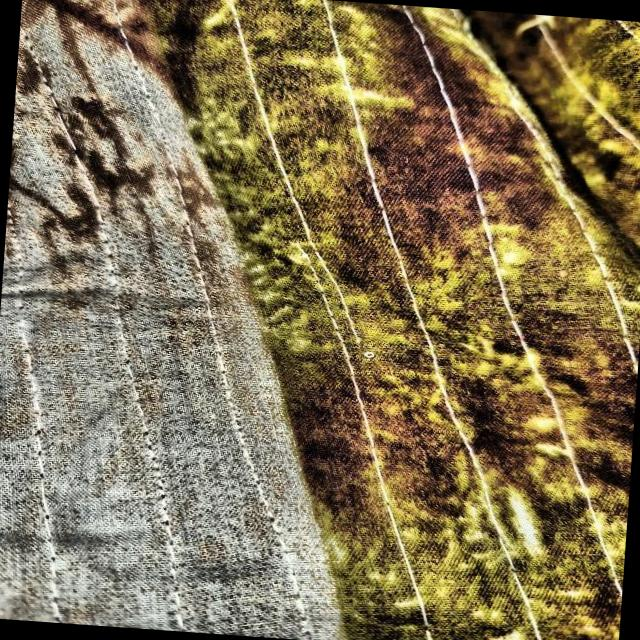gray stitch: (278, 226, 386, 363)
